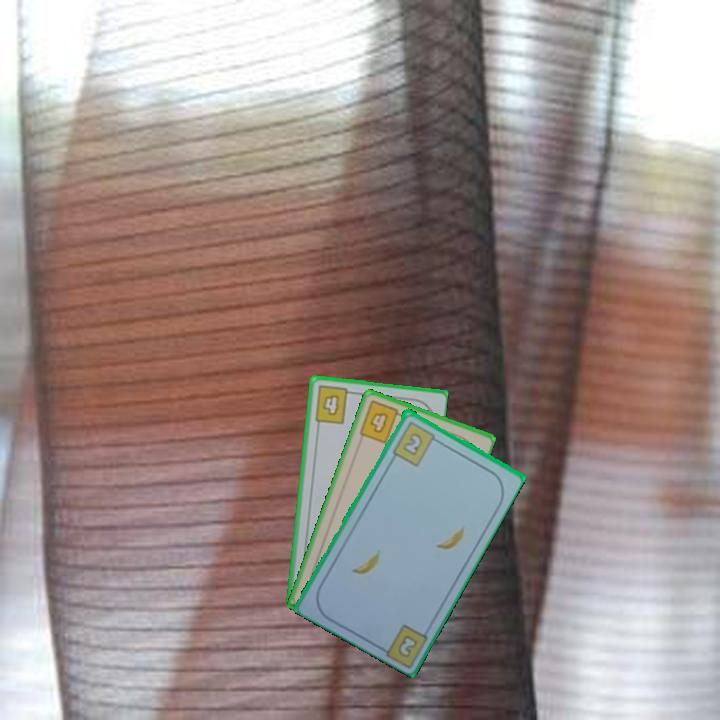2b: (389, 417, 442, 469), (394, 631, 420, 660)
4b: (355, 397, 408, 446), (311, 382, 357, 427)
